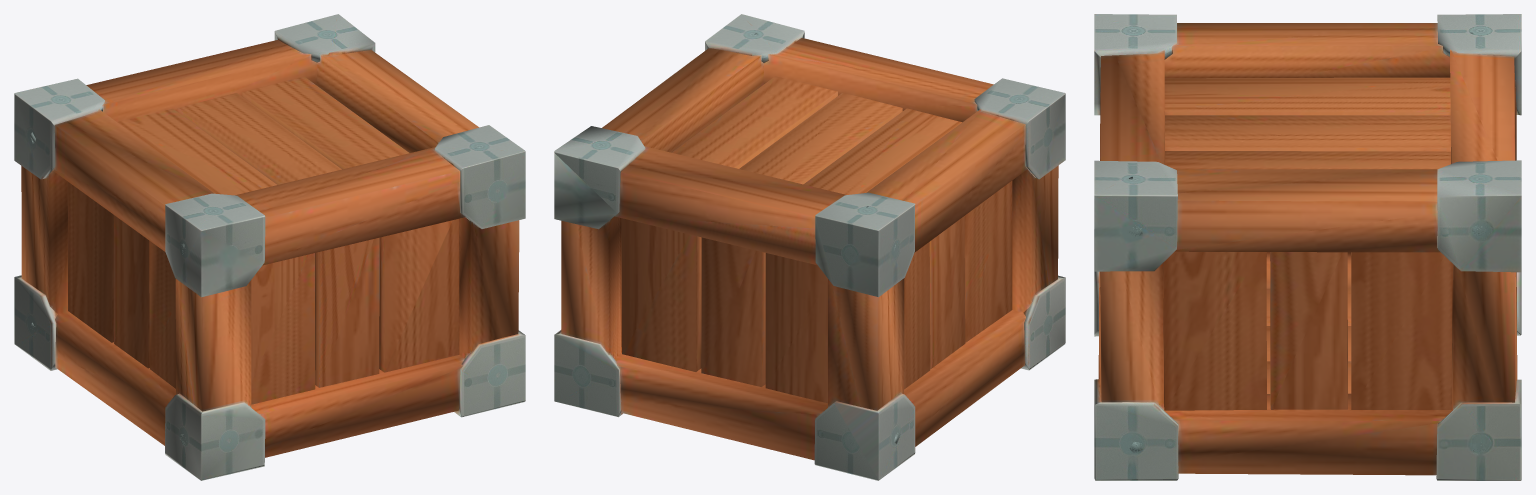
The model's file is crate_1.glb.
3 views of the same model, side by side, from view 1: azimuth 30°, elevation 25°; view 2: azimuth 150°, elevation 25°; view 3: azimuth 270°, elevation 25° (orthographic). The views are drawn at different scales.
Visible parts, largest first — view 1: Mesh_0; view 2: Mesh_0; view 3: Mesh_0.
Boxes of the visible parts, x1=… form: Mesh_0: x1=14, y1=14, x2=525, y2=480; Mesh_0: x1=554, y1=14, x2=1065, y2=480; Mesh_0: x1=1094, y1=14, x2=1521, y2=480.
Size of the model in its own units: 0.7 by 0.5223 by 0.7.
Materials: 1 (1 with a texture image).
